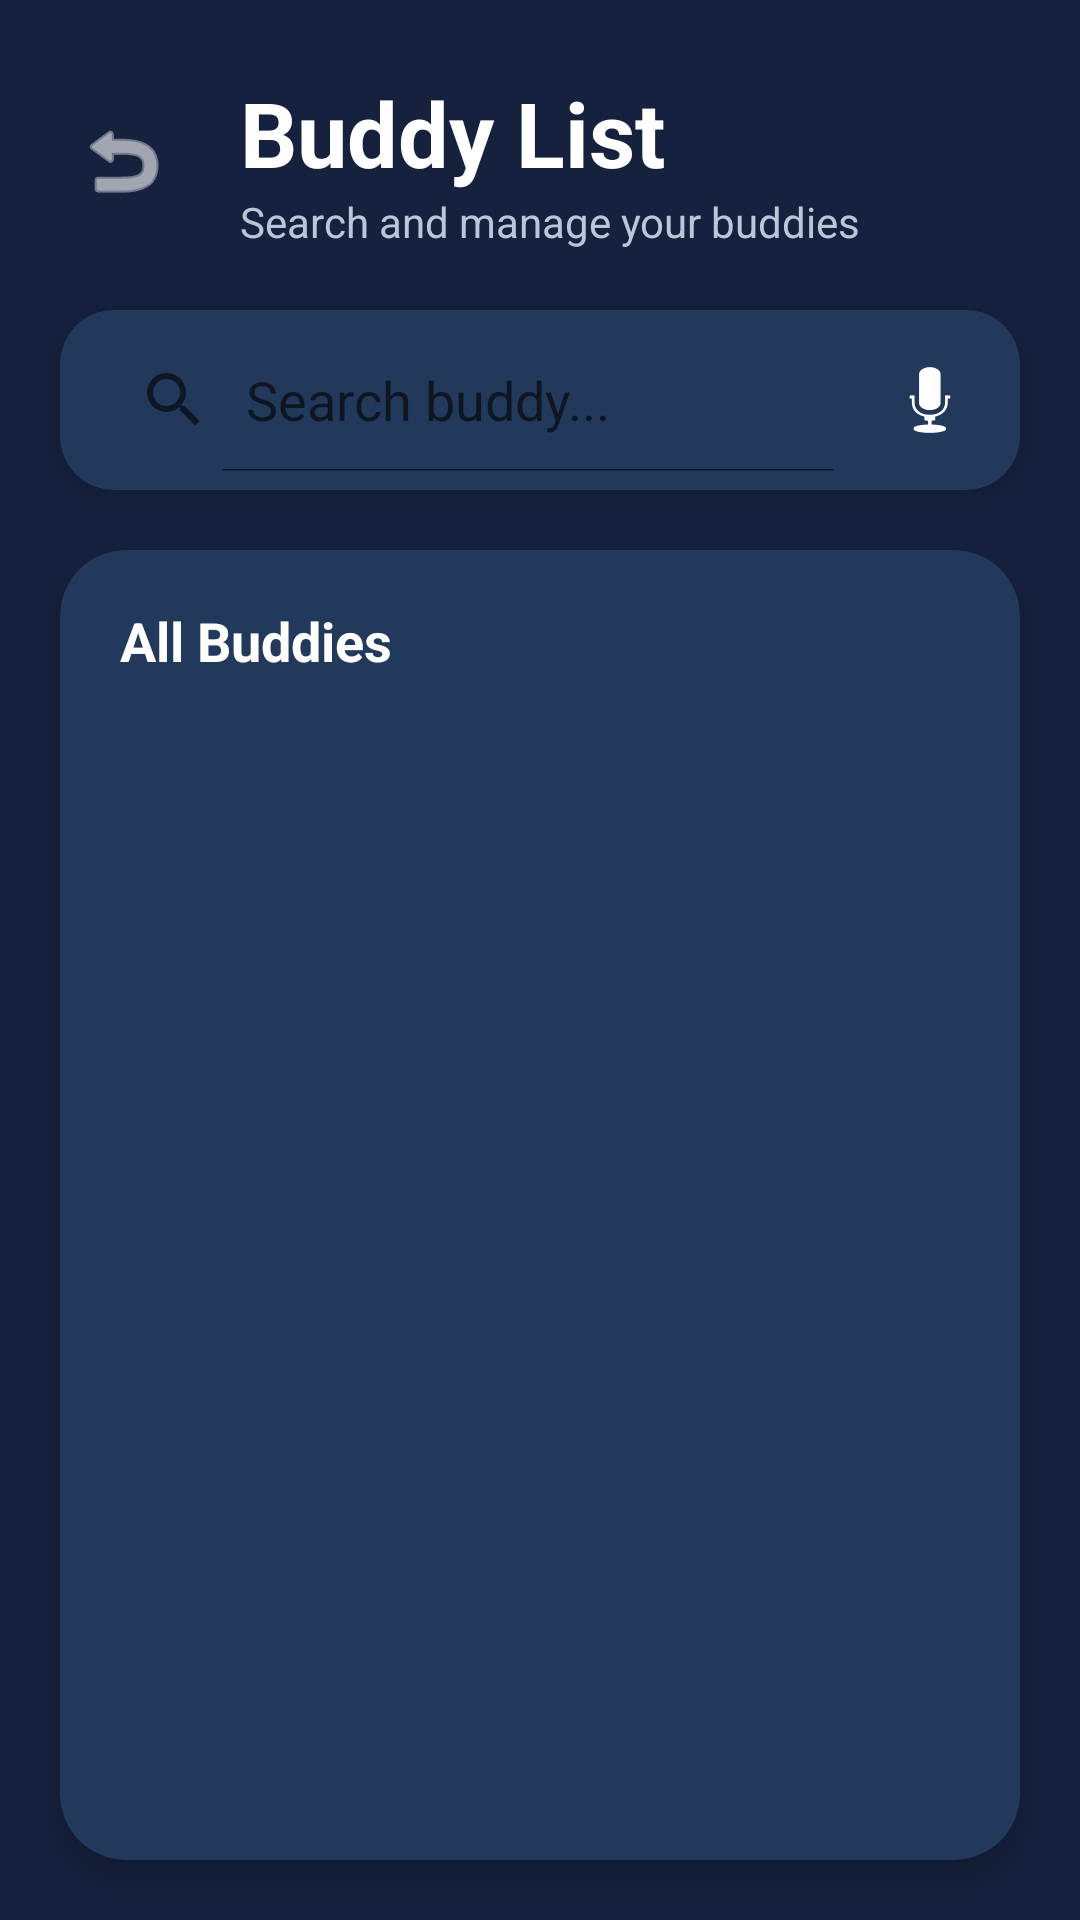

Locate icon controls on the screen. Image size 1080 x 1920, boxes as [left=x1, top=y1, right=x2, bottom=y2].
Back: [left=90, top=130, right=159, bottom=193]
Voice Search: [left=909, top=367, right=951, bottom=433]
